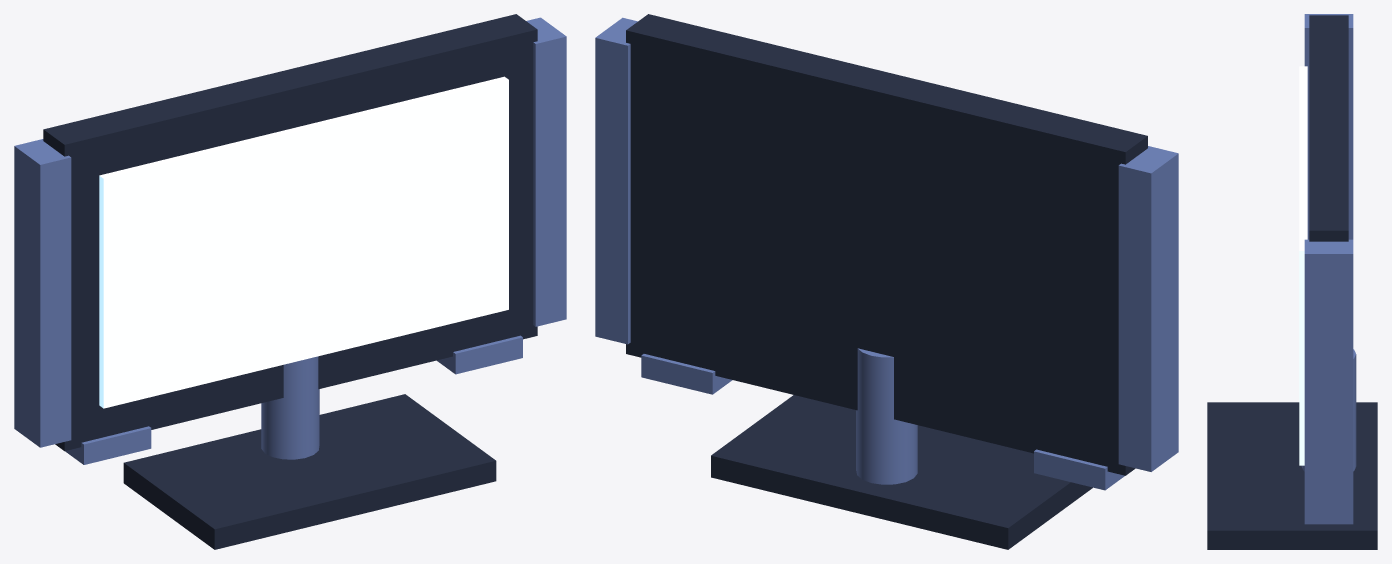
3 views of the same model, side by side, from view 1: azimuth 30°, elevation 25°; view 2: azimuth 150°, elevation 25°; view 3: azimuth 270°, elevation 25° (orthographic). The views are drawn at different scales.
Parts seen in each view (by area): view 1: screen-surface, pillar-bezel, weighted-plinth, pillar-left, pillar-right, plinth-spine, brace-left, brace-right; view 2: pillar-bezel, weighted-plinth, pillar-left, pillar-right, plinth-spine, brace-right, brace-left; view 3: weighted-plinth, pillar-right, pillar-bezel, screen-surface, pillar-left, plinth-spine, brace-right.
Boxes of the visible parts, <box> form: screen-surface: <box>99,76,508,408</box>; pillar-bezel: <box>43,14,537,451</box>; weighted-plinth: <box>123,394,496,549</box>; pillar-left: <box>14,139,71,447</box>; pillar-right: <box>526,17,566,326</box>; plinth-spine: <box>261,356,319,459</box>; brace-left: <box>65,426,151,464</box>; brace-right: <box>437,335,522,374</box>; pillar-bezel: <box>626,14,1147,475</box>; weighted-plinth: <box>711,395,1092,549</box>; pillar-left: <box>1118,146,1178,471</box>; pillar-right: <box>595,17,637,344</box>; plinth-spine: <box>856,348,917,484</box>; brace-right: <box>641,354,732,394</box>; brace-left: <box>1034,449,1124,490</box>; weighted-plinth: <box>1207,402,1377,549</box>; pillar-right: <box>1304,239,1353,517</box>; pillar-bezel: <box>1309,15,1348,241</box>; screen-surface: <box>1299,66,1307,465</box>; pillar-left: <box>1304,14,1353,239</box>; plinth-spine: <box>1301,349,1356,471</box>; brace-right: <box>1304,518,1353,524</box>.
Bounding box in the file's own units: 0.935 × 0.6595 × 0.28.
